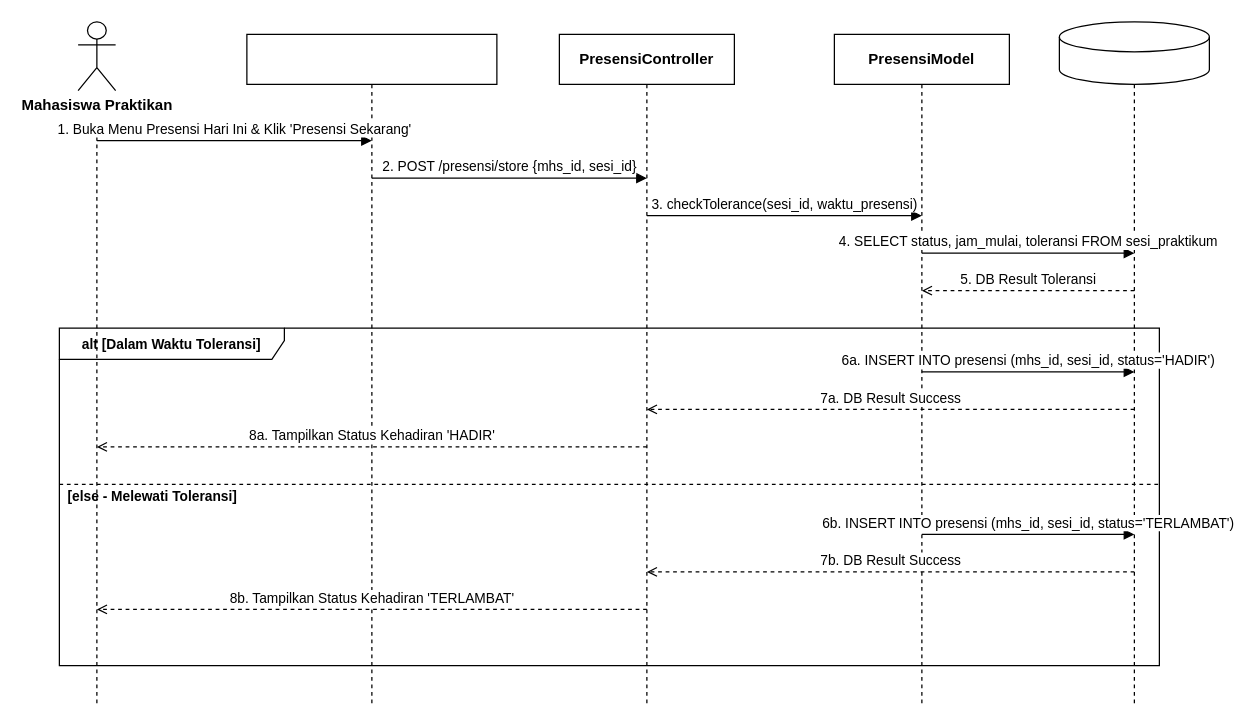
Image size: 1256x726. Some labels were removed from this diagram. The centre of each missing label's shape, as x and y in pixels:
"Database MySQL" goes at point (1133, 52).
"View (presensi_mandiri.php)" goes at point (371, 58).
